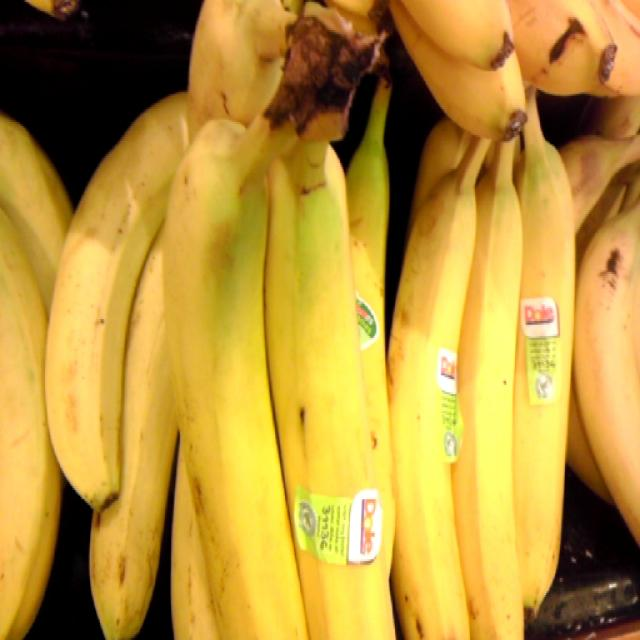banana: (39, 0, 396, 640), (395, 39, 585, 640)
